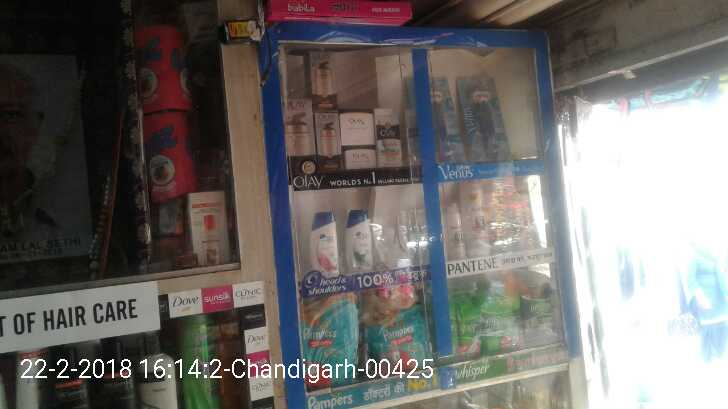venus: (467, 73, 507, 157), (434, 79, 462, 162)
